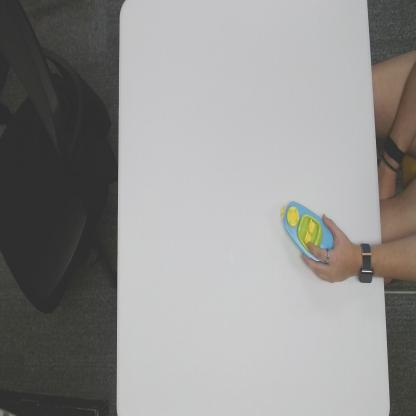Boat: (275, 194, 334, 262)
Hand: (300, 214, 356, 286)
